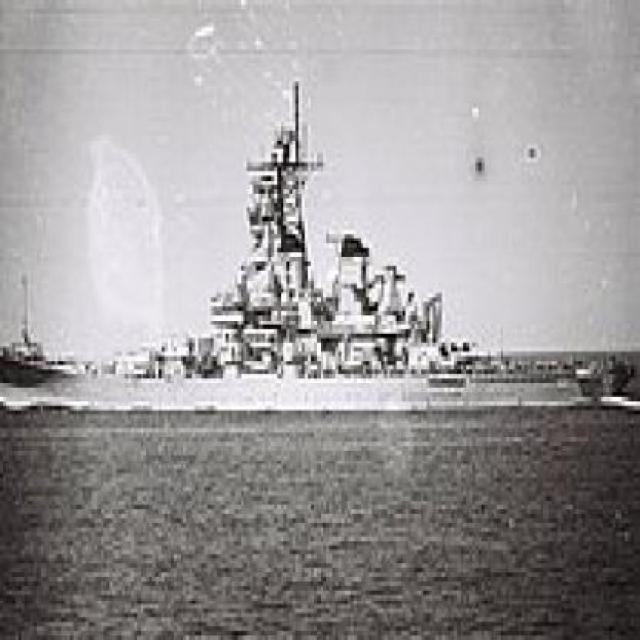warship2: (4, 72, 638, 425)
